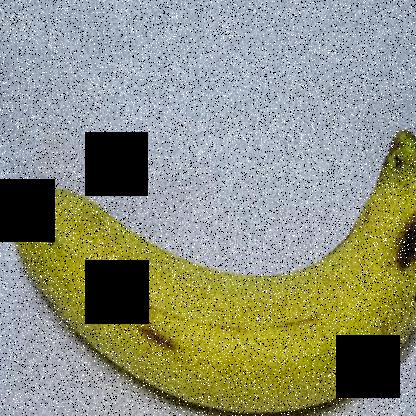freshripe: (5, 112, 415, 412)
